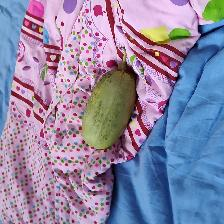gua: (82, 74, 128, 145)
